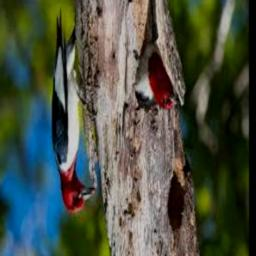Woodpecker: (51, 10, 96, 212), (134, 2, 179, 115)
